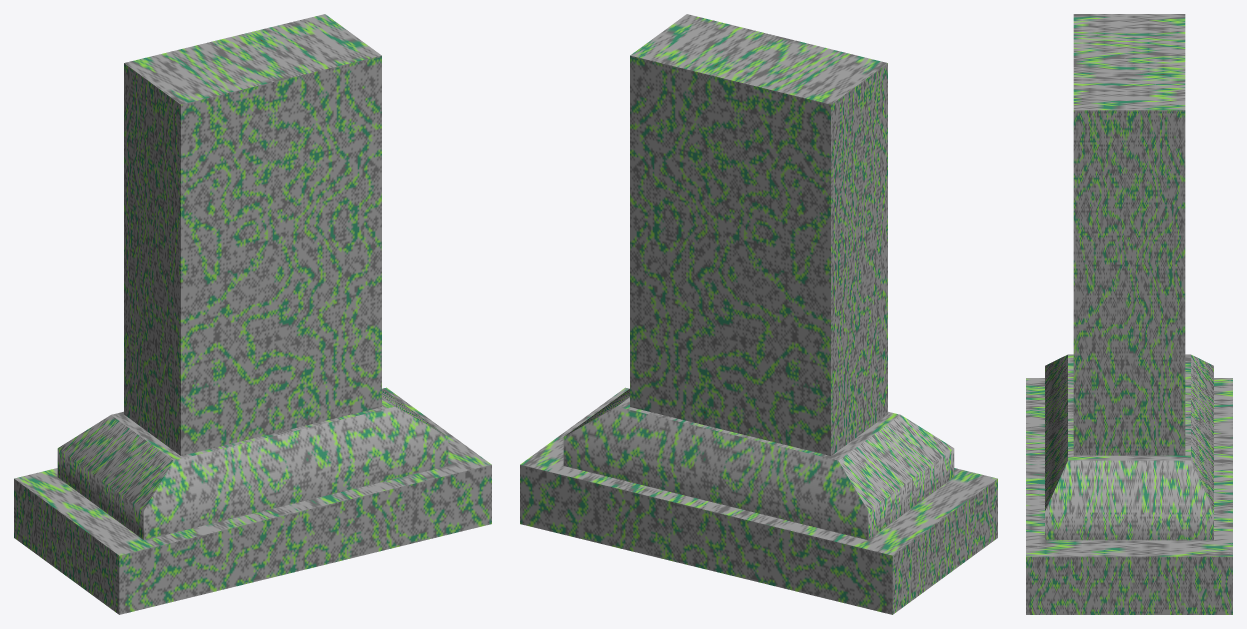
Rendered from Grave.fbx.
3 views of the same model, side by side, from view 1: azimuth 30°, elevation 25°; view 2: azimuth 150°, elevation 25°; view 3: azimuth 270°, elevation 25° (orthographic).
Visible parts, largest first — view 1: Cube.002; view 2: Cube.002; view 3: Cube.002.
Boxes of the visible parts, x1=… form: Cube.002: x1=14, y1=14, x2=491, y2=614; Cube.002: x1=520, y1=14, x2=997, y2=614; Cube.002: x1=1026, y1=14, x2=1232, y2=614.
Bounding box in the file's own units: 0.3827 × 0.1874 × 0.4629.
Materials: 1 (1 with a texture image).
